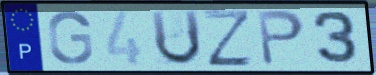3: (310, 10, 361, 67)
4: (104, 8, 146, 67)
G: (46, 9, 95, 66)
P: (255, 9, 307, 68)
U: (148, 8, 204, 68)
Z: (201, 8, 255, 68)
